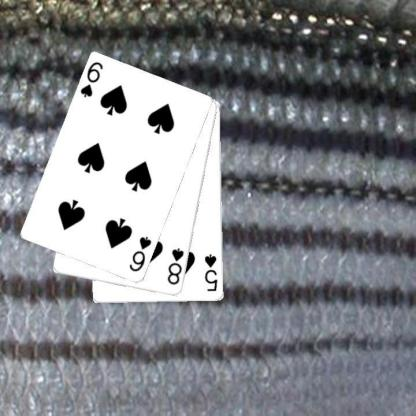5S: (202, 252, 219, 293)
6S: (78, 59, 104, 99), (127, 234, 153, 273)
8S: (164, 245, 186, 286)
